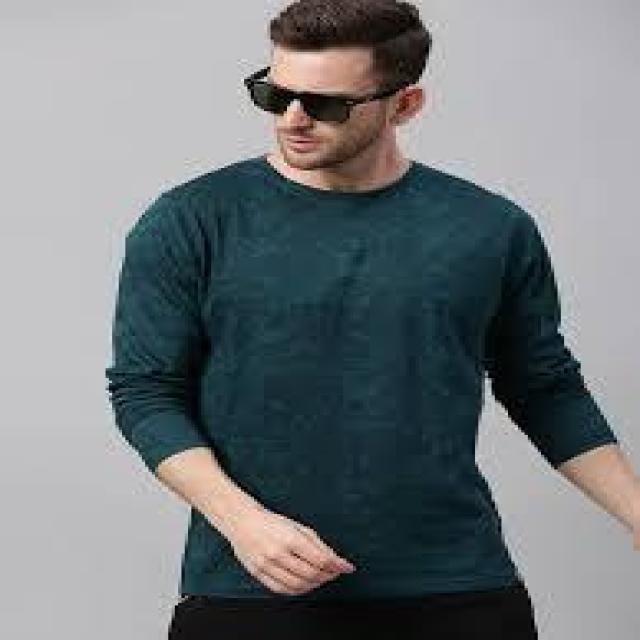Tshirt: (71, 148, 605, 603)
